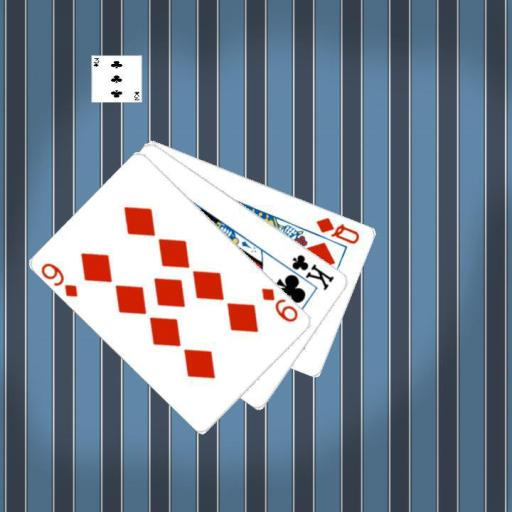9D: (259, 285, 300, 324), (39, 260, 80, 299)
KC: (280, 251, 337, 292)
QD: (313, 214, 361, 245)
